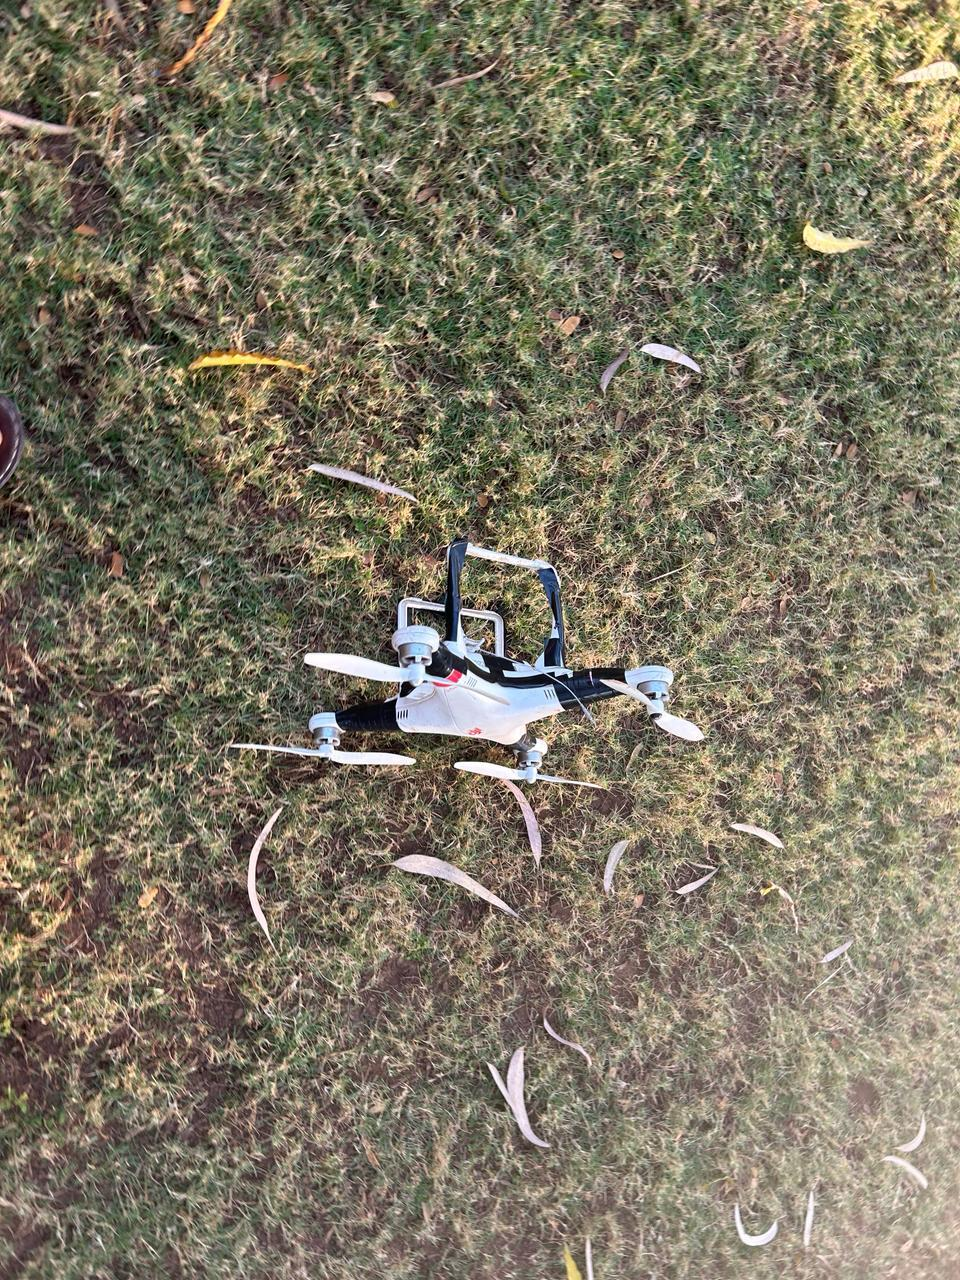drone: (211, 434, 717, 860)
